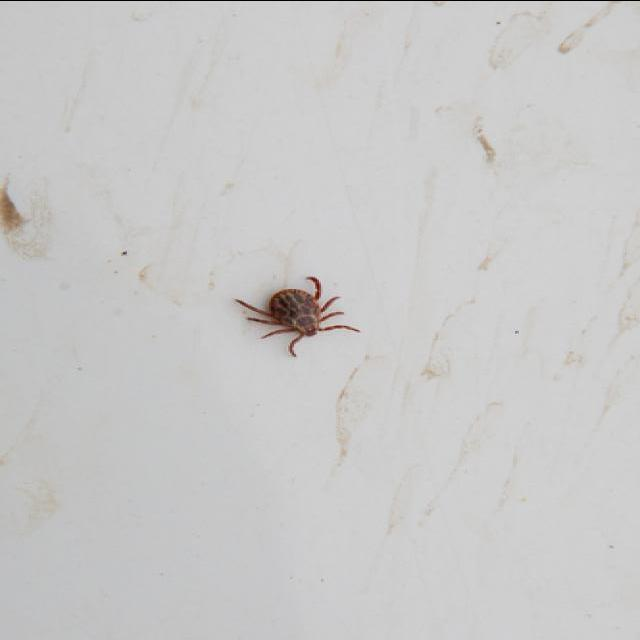Dermacentor Reticulatus-M: (234, 275, 359, 356)
